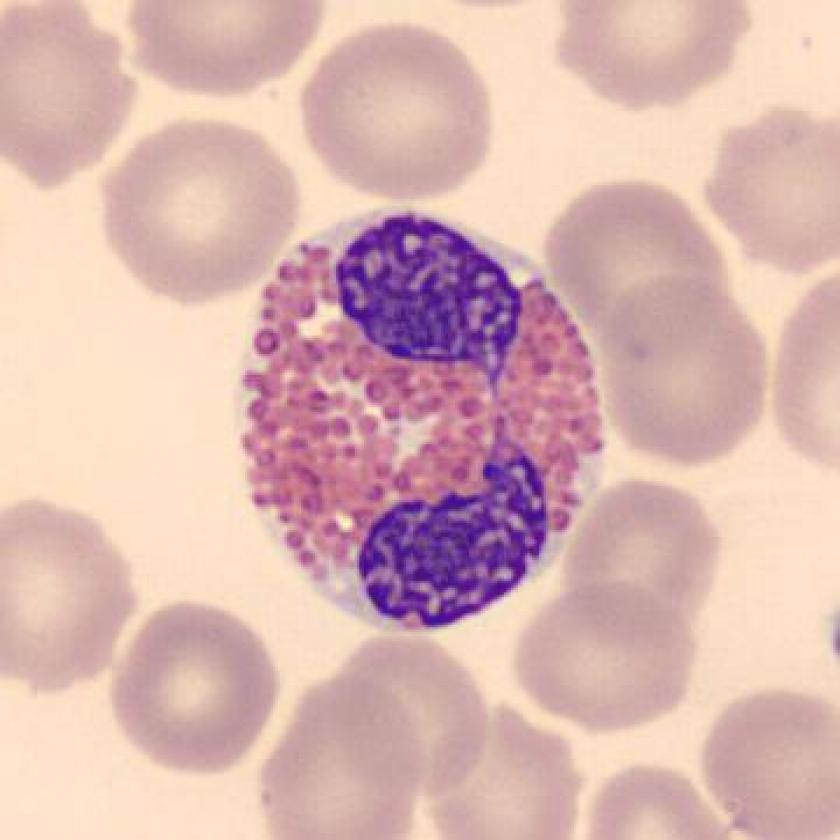eosinophil: (225, 198, 605, 642)
